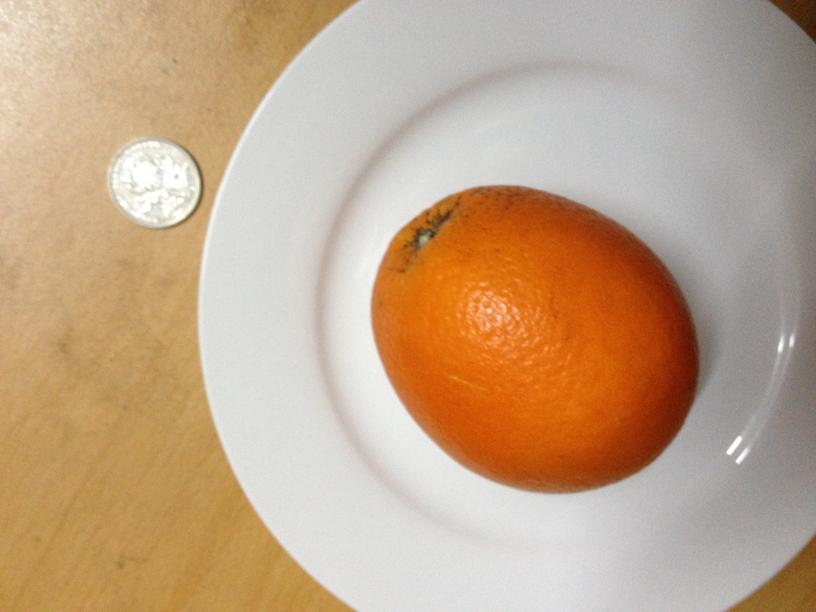coin: (103, 139, 199, 226)
orange: (371, 187, 700, 492)
